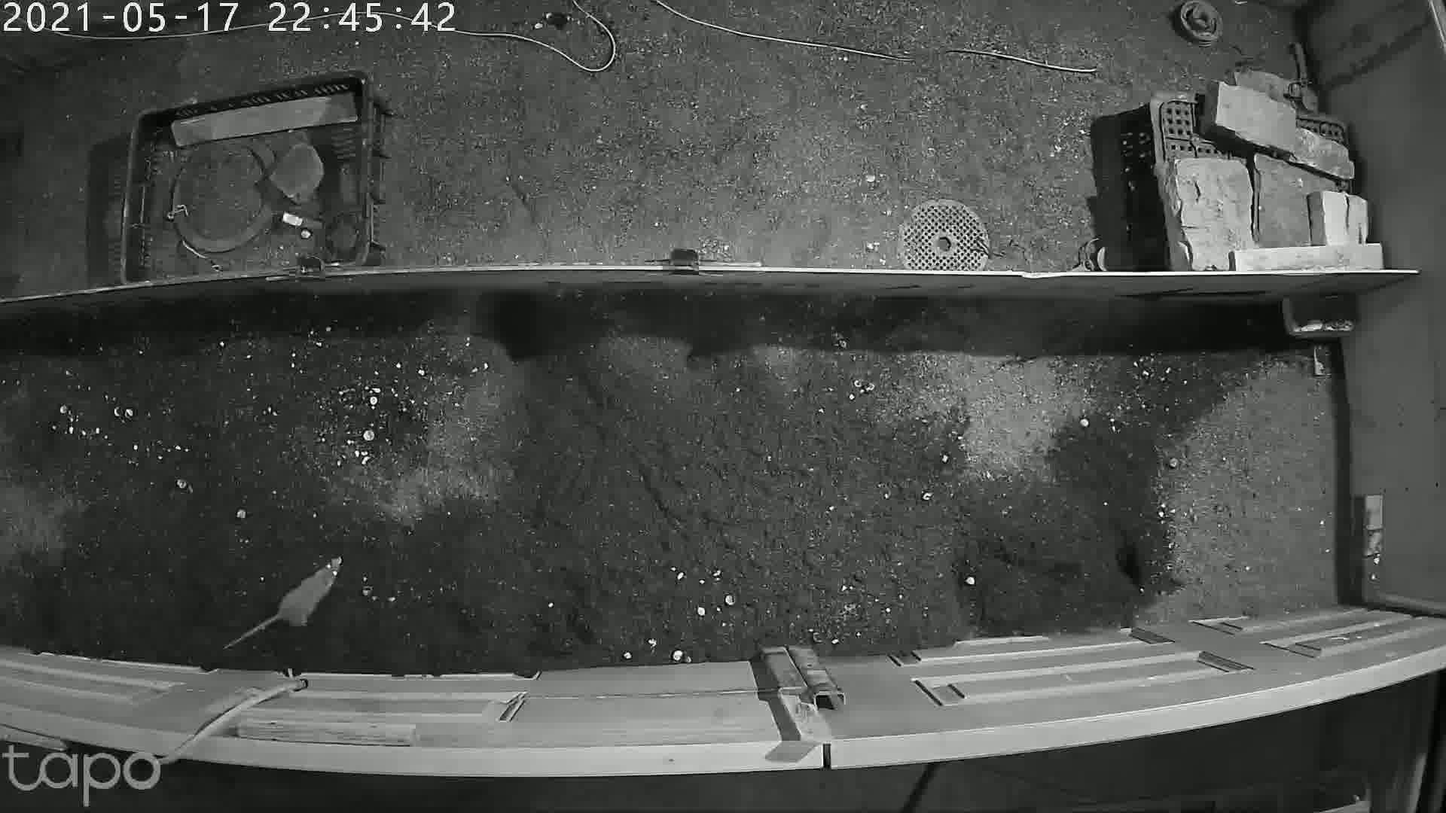rat: (219, 549, 358, 647)
